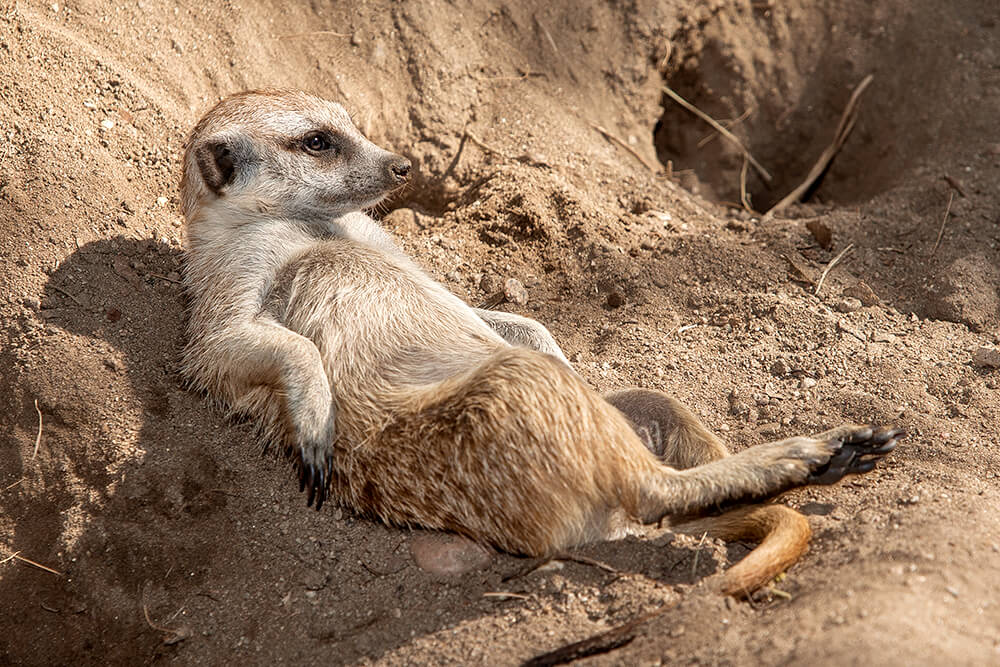meerkat: (155, 71, 910, 658)
